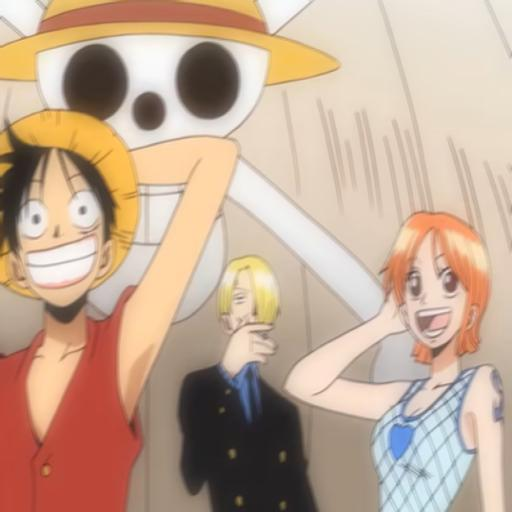Luffy: (0, 106, 243, 510)
Nami: (279, 201, 512, 512)
sanji: (180, 240, 336, 512)
